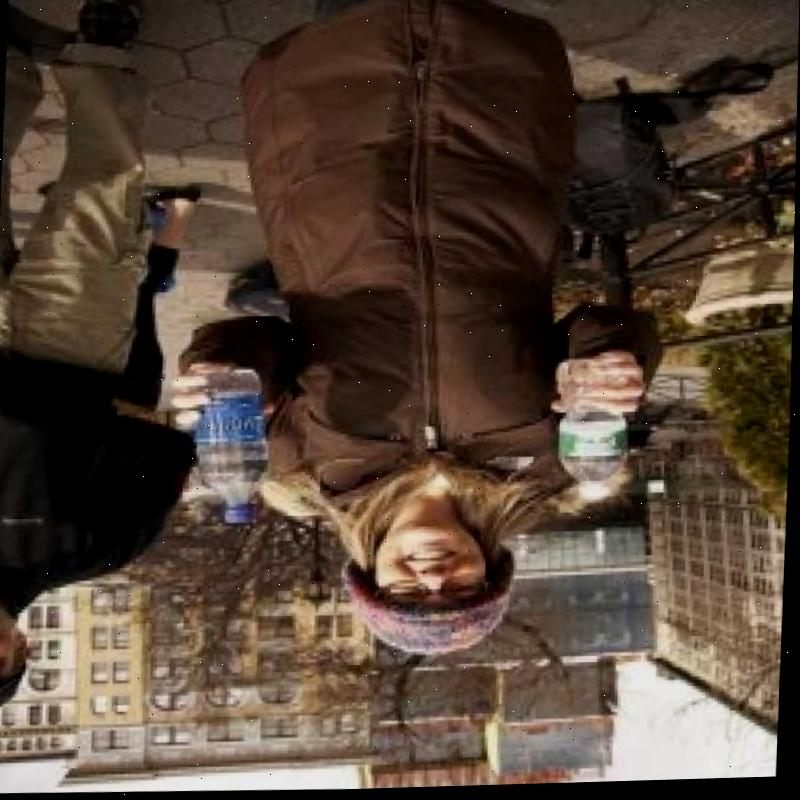botella: (191, 363, 272, 526), (556, 341, 634, 500)
